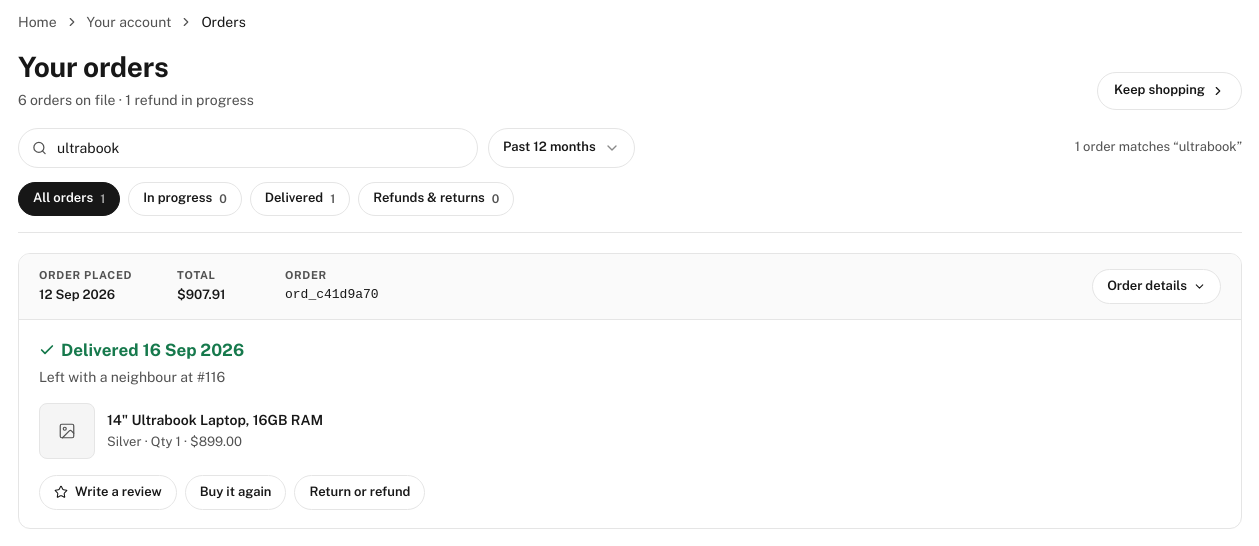
Scenario: MyOrders › counts the matches against the term that found them
The width and height of the screenshot is (1259, 546).
Check: the text "1 order matches “ultrabook”" is shown, box [1075,138,1242,157]
Replace the text in the search field named "Search your orders" with "aurora": (248, 148) [18,128,478,168]
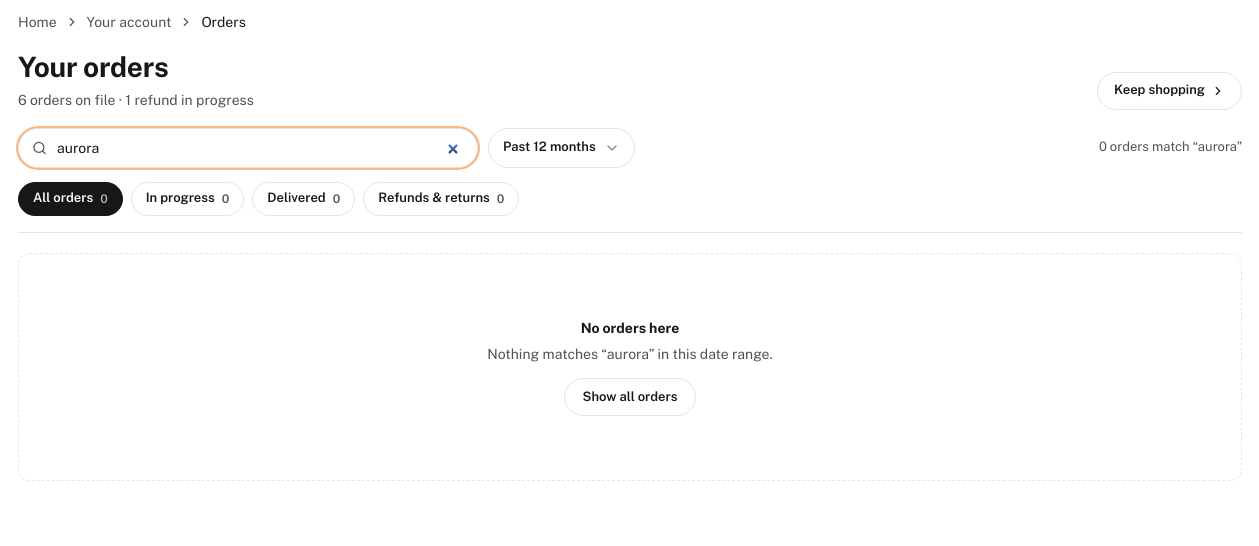
Check: the text "0 orders match “aurora”" is shown, box [1099,138,1242,157]
